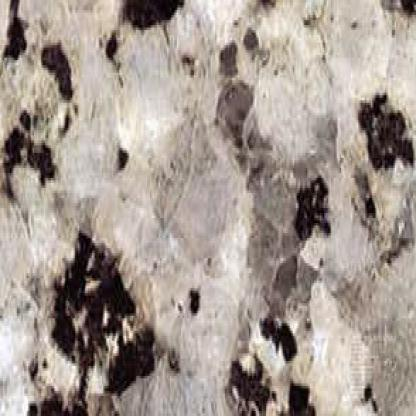Igneous_Granite: (1, 8, 416, 414)
